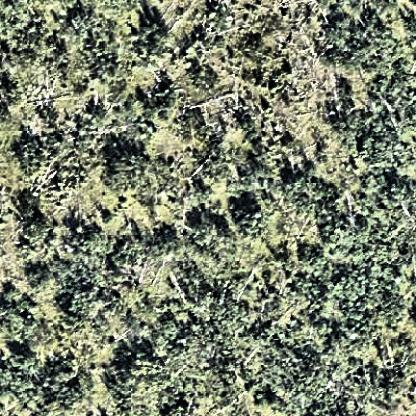tree-top: (108, 149, 189, 229), (58, 299, 127, 371), (115, 359, 174, 416), (180, 217, 232, 274), (3, 1, 73, 41), (238, 208, 285, 248), (14, 134, 55, 177), (1, 304, 32, 352), (138, 21, 177, 59), (233, 203, 269, 241), (186, 215, 222, 251), (380, 174, 416, 210), (73, 227, 112, 259), (14, 347, 46, 382), (322, 18, 353, 49), (152, 89, 181, 121), (222, 120, 251, 151), (283, 172, 308, 197), (126, 95, 150, 118), (101, 210, 124, 230), (280, 67, 297, 82)
